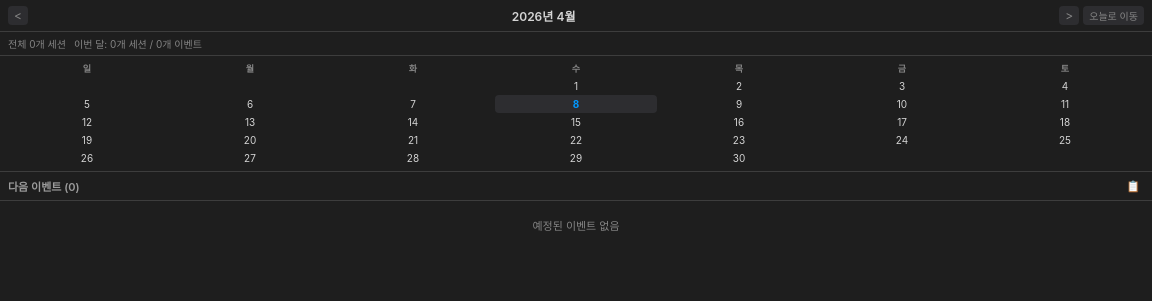
Scenario: CalendarPanel › 날짜 클릭 시 선택된 날짜 패널이 표시된다
Click the text "15" at {"x": 576, "y": 122}, box [571, 116, 581, 128]
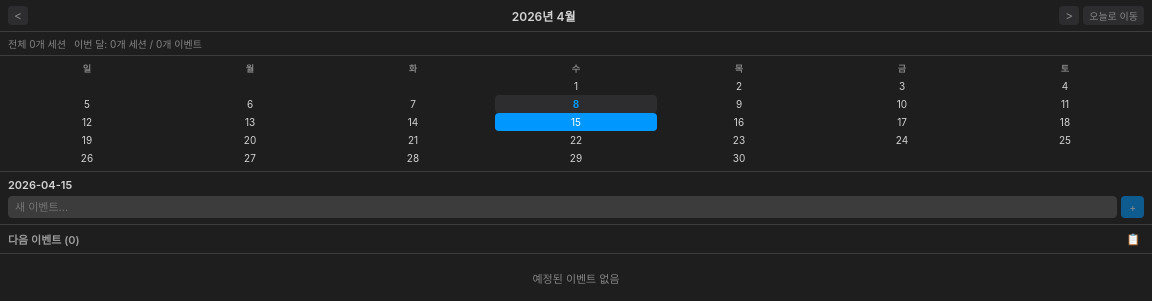
Expected: the text "2026-04-15" is shown, [8, 178, 72, 192]
